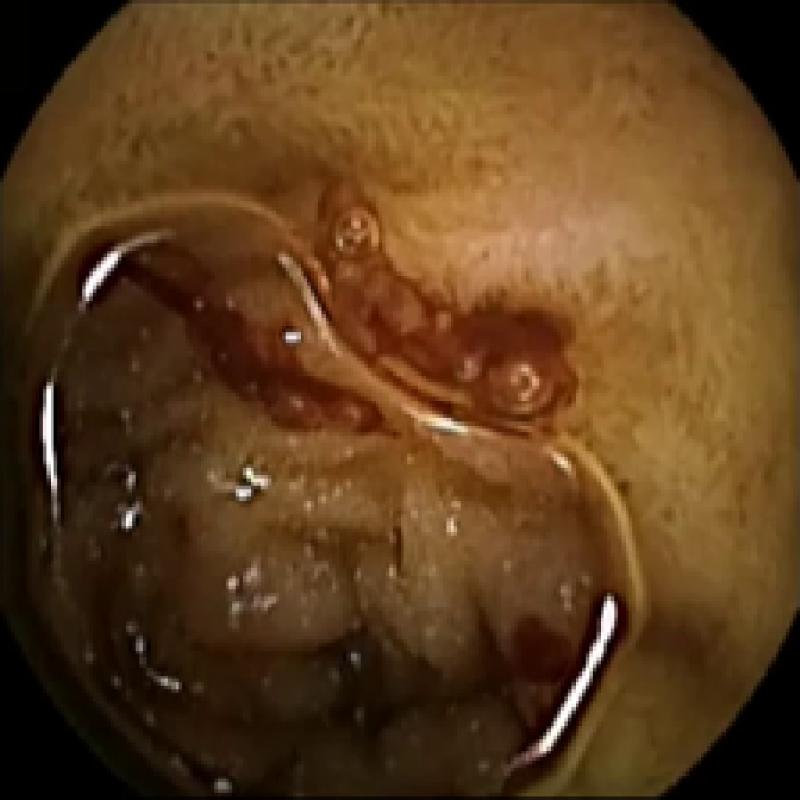bleeding: (115, 179, 586, 433)
